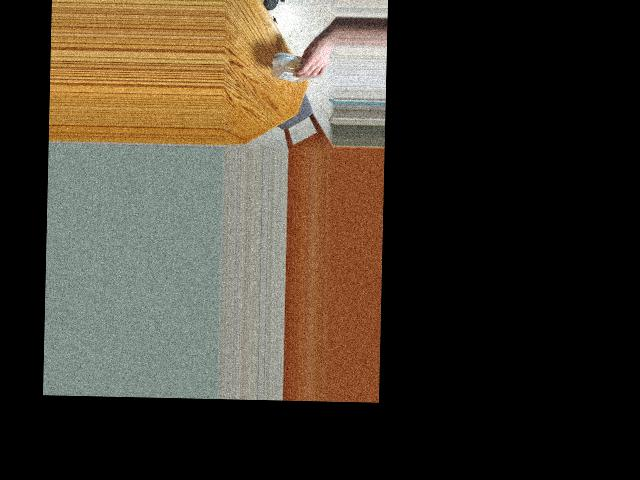cheese: (279, 49, 317, 83)
